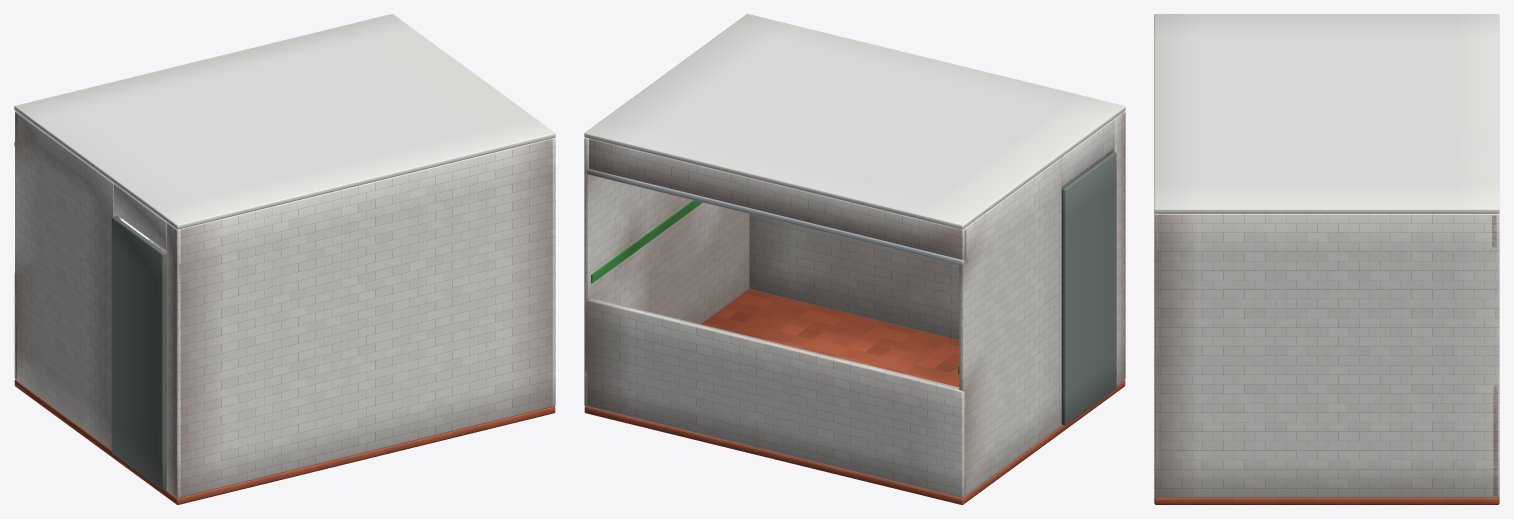
The model's file is fp-room-kitchen.gltf.
3 renders of one model, left to right at view 1: azimuth 30°, elevation 25°; view 2: azimuth 150°, elevation 25°; view 3: azimuth 270°, elevation 25°, orthographic. The views are drawn at different scales.
Visible parts, largest first — view 1: model; view 2: model; view 3: model.
Boxes of the visible parts, x1,y1,x2,y2 form: model: (14,14,555,504); model: (584,14,1125,504); model: (1154,14,1499,504).
Bounding box in the file's own units: 3.34 × 2.35 × 2.48.
Materials: 18 (2 with a texture image).
